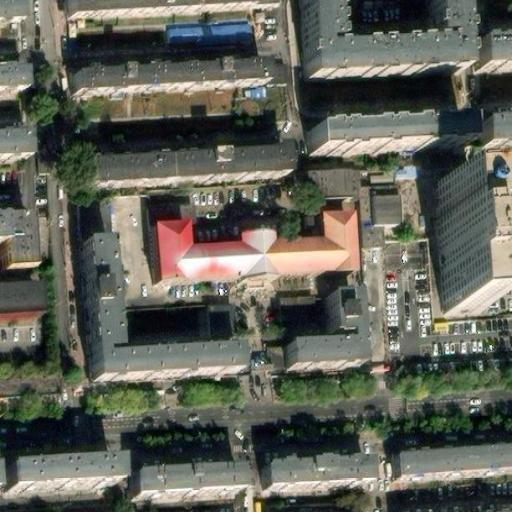building: (78, 237, 236, 383), (149, 215, 353, 289), (301, 0, 460, 71), (79, 144, 287, 187), (72, 58, 265, 98), (282, 288, 360, 373), (437, 174, 481, 303), (306, 113, 462, 148), (65, 0, 249, 23), (396, 441, 512, 477), (136, 464, 247, 499), (4, 462, 116, 496), (263, 454, 365, 490), (164, 21, 254, 48), (307, 167, 360, 199), (476, 32, 512, 67), (203, 305, 234, 343), (0, 278, 34, 309), (0, 126, 35, 155), (483, 110, 512, 141), (367, 193, 400, 219), (0, 55, 25, 81), (263, 57, 283, 80)
